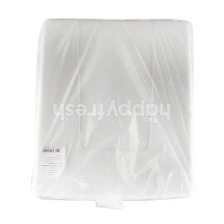foam_box: (32, 15, 198, 215)
